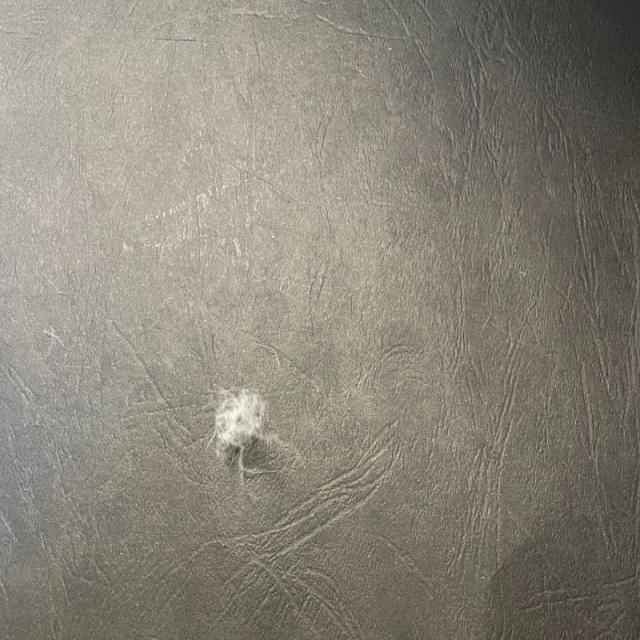feather: (211, 389, 269, 466)
